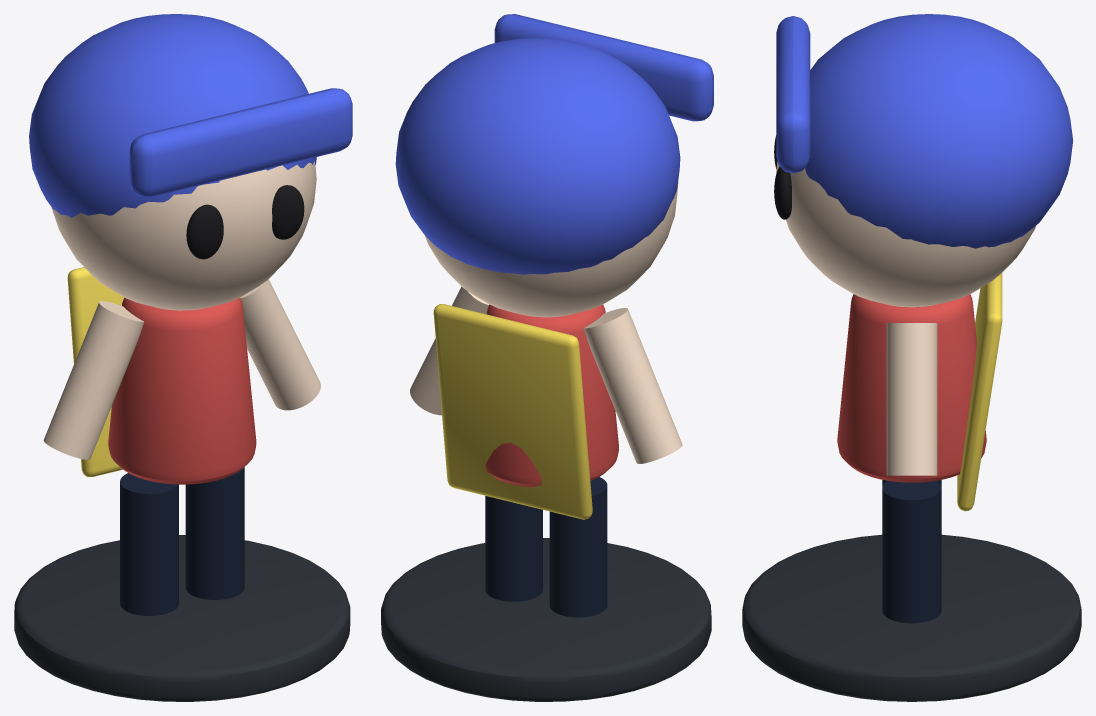
Rendered from figure.glb.
The picture shows the model from 3 angles, left to right: view 1: azimuth 30°, elevation 25°; view 2: azimuth 150°, elevation 25°; view 3: azimuth 270°, elevation 25°; orthographic projection. The views are drawn at different scales.
Visible parts, largest first — view 1: base.002, hair, body.003, head, bang, armL, legL, legR, armR, cape, eyeL, eyeR; view 2: hair, base.002, cape, head, armL, bang, body.003, legL, legR, armR; view 3: hair, base.002, body.003, head, legR, armR, bang, cape, eyeR.
Part boxes in pixels (x1=…): base.002: x1=14, y1=535, x2=350, y2=701; hair: x1=29, y1=14, x2=316, y2=217; body.003: x1=108, y1=297, x2=256, y2=484; head: x1=51, y1=161, x2=316, y2=310; bang: x1=129, y1=88, x2=352, y2=197; armL: x1=43, y1=301, x2=144, y2=459; legL: x1=120, y1=473, x2=178, y2=615; legR: x1=185, y1=467, x2=244, y2=599; armR: x1=240, y1=279, x2=320, y2=410; cape: x1=67, y1=267, x2=124, y2=476; eyeL: x1=186, y1=204, x2=223, y2=259; eyeR: x1=272, y1=185, x2=304, y2=239; hair: x1=395, y1=38, x2=680, y2=274; base.002: x1=381, y1=538, x2=711, y2=701; cape: x1=433, y1=304, x2=592, y2=519; head: x1=424, y1=181, x2=678, y2=317; armL: x1=583, y1=308, x2=682, y2=463; bang: x1=494, y1=14, x2=713, y2=121; body.003: x1=485, y1=304, x2=618, y2=487; legL: x1=549, y1=477, x2=607, y2=617; legR: x1=485, y1=496, x2=542, y2=601; armR: x1=410, y1=287, x2=489, y2=415; hair: x1=805, y1=14, x2=1072, y2=248; base.002: x1=742, y1=534, x2=1081, y2=701; body.003: x1=837, y1=294, x2=986, y2=482; head: x1=776, y1=161, x2=1035, y2=307; legR: x1=882, y1=480, x2=941, y2=623; armR: x1=886, y1=323, x2=937, y2=475; bang: x1=776, y1=16, x2=810, y2=173; cape: x1=957, y1=273, x2=1002, y2=511; eyeR: x1=774, y1=166, x2=791, y2=219.
Bounding box in the file's own units: 0.4 × 0.7845 × 0.4.
